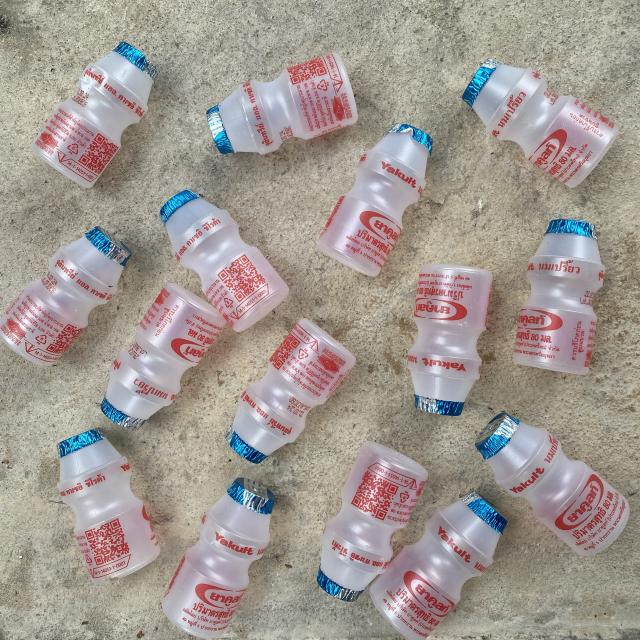Single-Use-Plastic: (475, 412, 630, 555), (462, 60, 619, 188), (370, 494, 505, 640), (226, 319, 355, 464), (31, 42, 156, 188), (0, 226, 131, 365), (160, 190, 289, 331), (162, 478, 275, 638), (101, 284, 225, 429), (318, 441, 428, 601), (318, 124, 432, 276), (58, 429, 160, 584), (206, 54, 358, 155), (514, 219, 605, 375), (408, 264, 492, 416)
